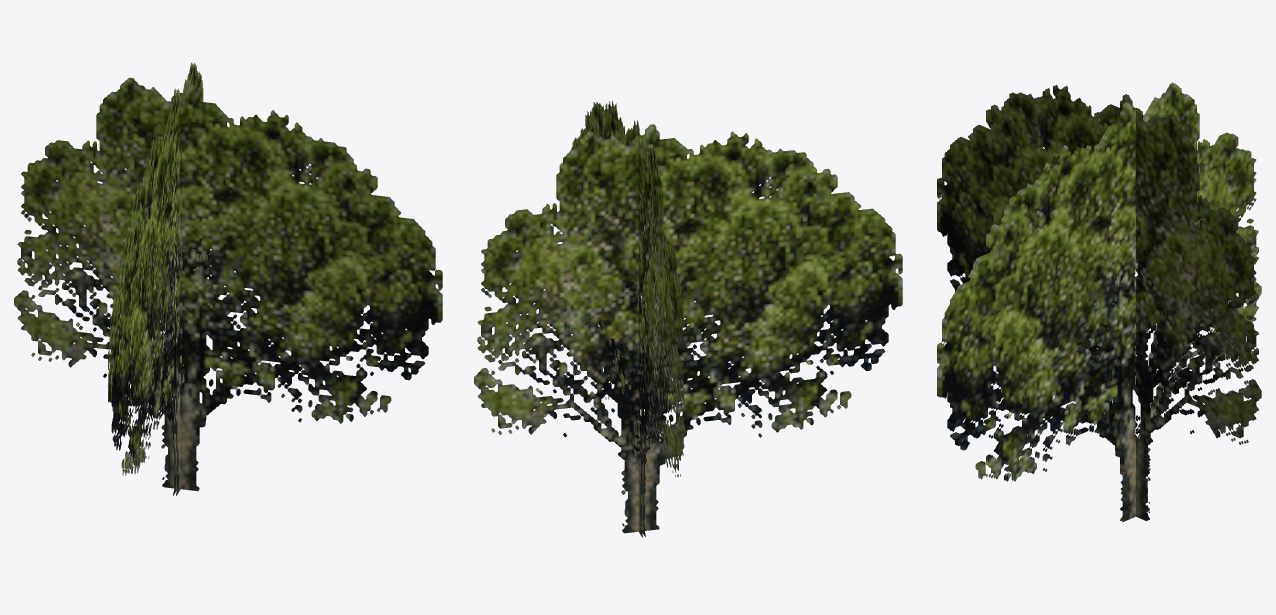
File: tree098.fbx
The picture shows the model from 3 angles, left to right: view 1: azimuth 30°, elevation 25°; view 2: azimuth 150°, elevation 25°; view 3: azimuth 270°, elevation 25°; orthographic projection. The views are drawn at different scales.
Visible parts, largest first — view 1: tree098; view 2: tree098; view 3: tree098.
Part boxes in pixels (bbox=[...]): tree098: bbox=[14, 62, 442, 495]; tree098: bbox=[474, 101, 902, 537]; tree098: bbox=[937, 82, 1261, 522].
Bounding box in the file's own units: 342 × 400 × 278.
1 material, 1 textured.
